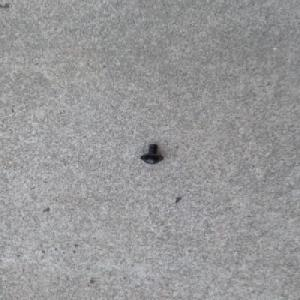BoltWasher: (139, 143, 164, 164)
